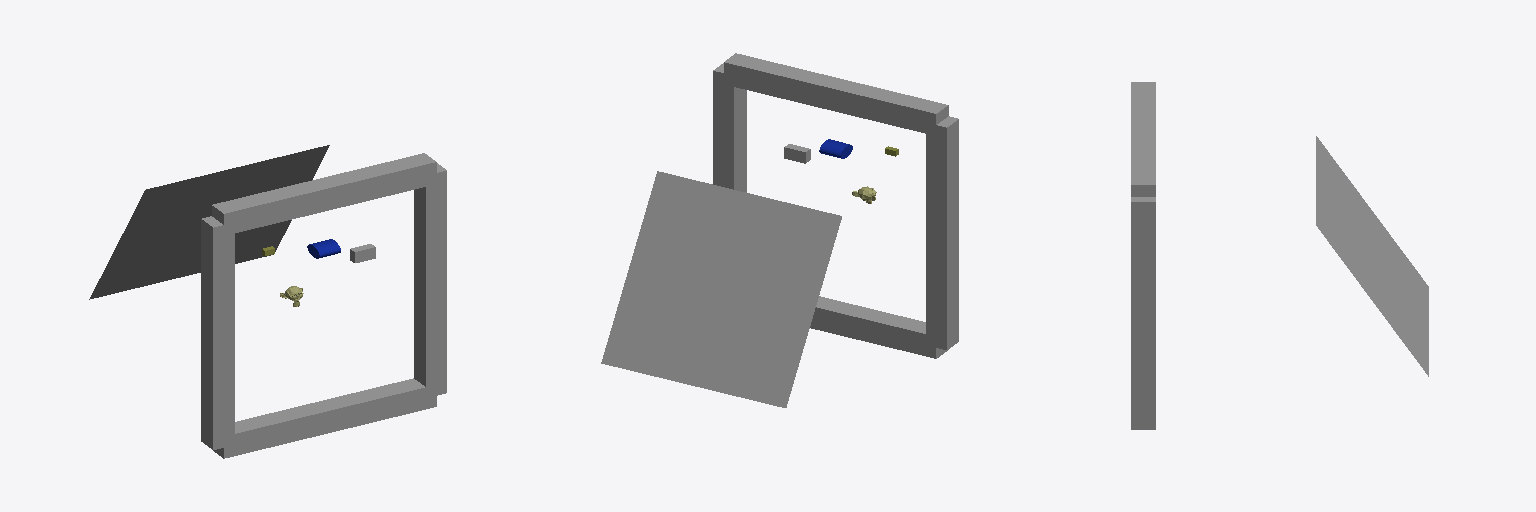
File: level1.obj
3 renders of one model, left to right at view 1: azimuth 30°, elevation 25°; view 2: azimuth 150°, elevation 25°; view 3: azimuth 270°, elevation 25°, orthographic.
Parts seen in each view (by area): view 1: decoration_Plane, left-wall_Cube, top-wall_Cube.003, bottom-wall_Cube.002, right-wall_Cube.001; view 2: decoration_Plane, top-wall_Cube.003, left-wall_Cube, bottom-wall_Cube.002, right-wall_Cube.001; view 3: decoration_Plane, right-wall_Cube.001, top-wall_Cube.003.
Boxes of the visible parts, box(x1,y1,x2,y2) form: decoration_Plane: box(89, 145, 329, 299); left-wall_Cube: box(201, 216, 234, 449); top-wall_Cube.003: box(212, 153, 436, 235); bottom-wall_Cube.002: box(213, 378, 436, 458); right-wall_Cube.001: box(414, 163, 446, 395); decoration_Plane: box(601, 171, 841, 407); top-wall_Cube.003: box(724, 53, 948, 135); left-wall_Cube: box(926, 116, 958, 349); bottom-wall_Cube.002: box(810, 296, 948, 358); right-wall_Cube.001: box(713, 63, 746, 192); decoration_Plane: box(1316, 136, 1428, 376); right-wall_Cube.001: box(1131, 197, 1155, 423); top-wall_Cube.003: box(1131, 82, 1155, 196).
Size of the model in its own units: 22 by 22 by 24.2.